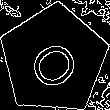O_NE: (22, 28, 86, 91)
